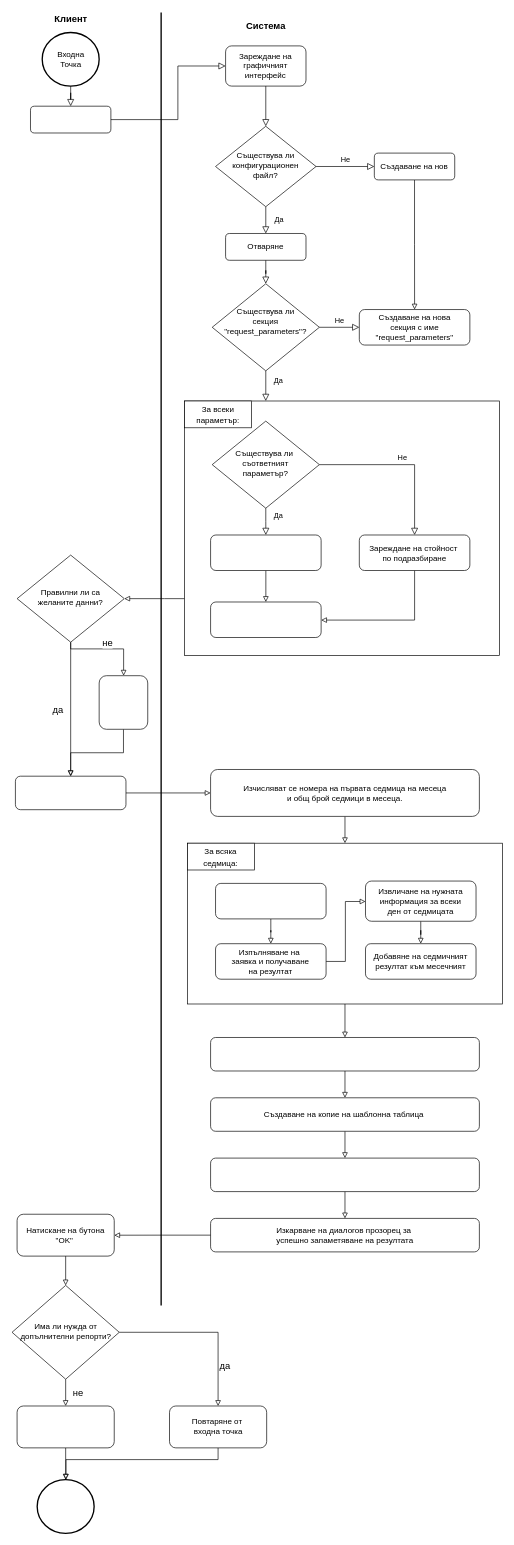
This 514x1545 diagram has some shape labels left out. Here are the shapes that lost their labels. From the top down, the centre of each, then its label:
pixel 70 119: Отваряне на прогамата
pixel 265 552: Зареждане на информация от файл
pixel 265 619: Задаване на стойност на съответното поле в интерфейса
pixel 123 702: Избиране на желани стойности
pixel 70 793: Натискане на бутон Експорт
pixel 270 901: Създаване на заявка за съответната седмица
pixel 344 1054: Препращане на изчистената информация към библиотеката за работа с Excel
pixel 344 1174: Прибавяне на елементите от месечният резултат към таблицата
pixel 65 1426: Затваряне на програмата
pixel 65 1506: Изходна Точка
